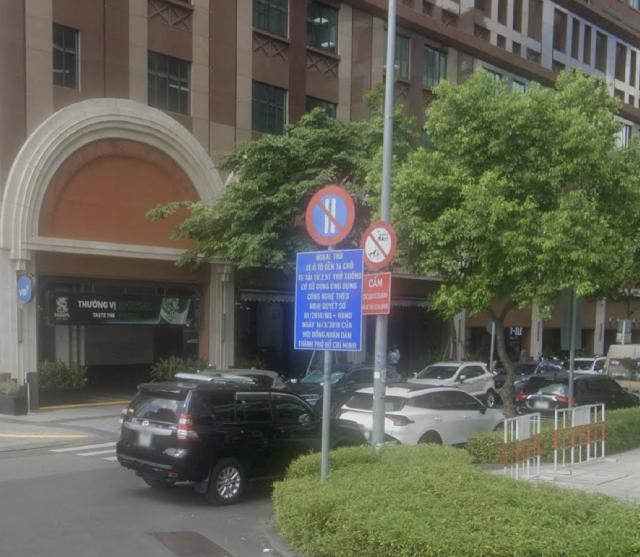131c-cam-do-xe-ngay-chan: (305, 185, 356, 247)
